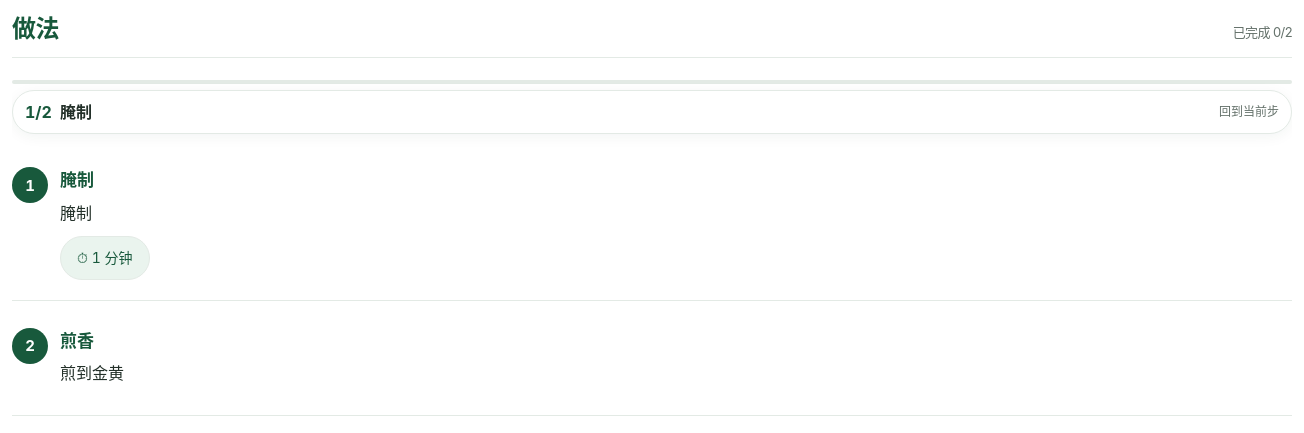
Test: StepList · 到点提醒 › 点「时间到」按钮可以清除提醒
What coordinates should you click on to do the following:
click the button "⏱ 1 分钟"
I would click on:
 (105, 258)
Its box is [60,236,150,280].
Wait 61000 ms
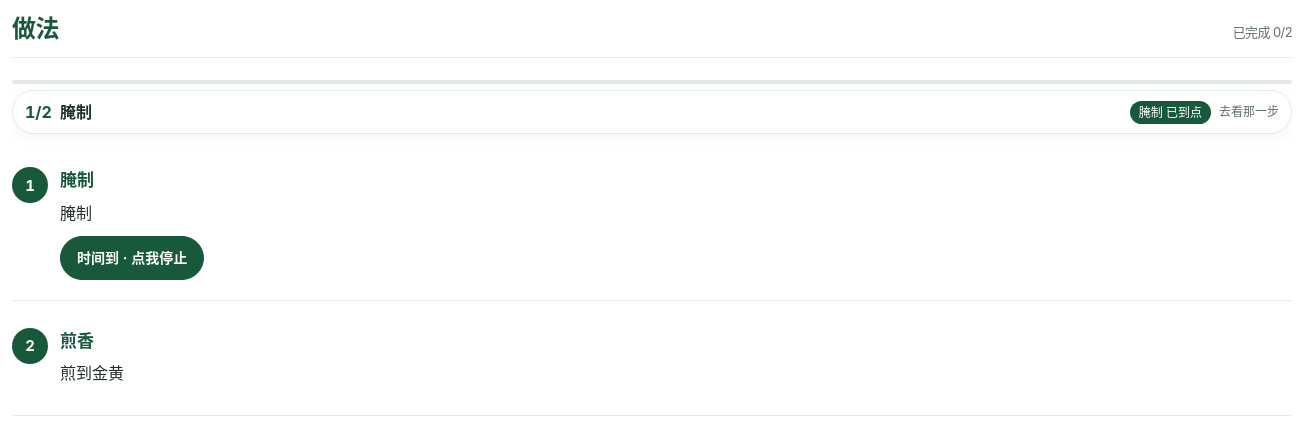
What coordinates should you click on to do the following:
click the button "时间到 · 点我停止"
I would click on:
 (132, 258)
Its box is [60,236,204,280].
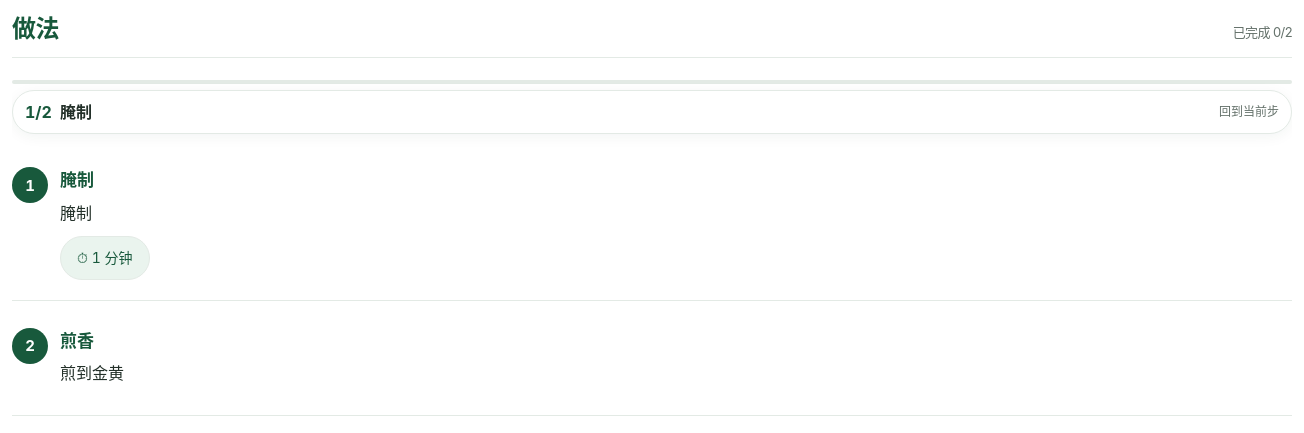
Result: the button "时间到 · 点我停止" is gone
